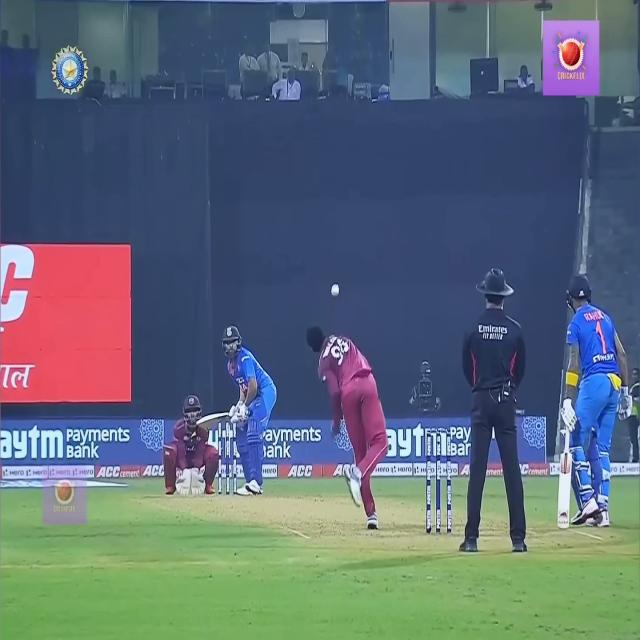partially_visible: (386, 418, 448, 466), (2, 427, 64, 465)
